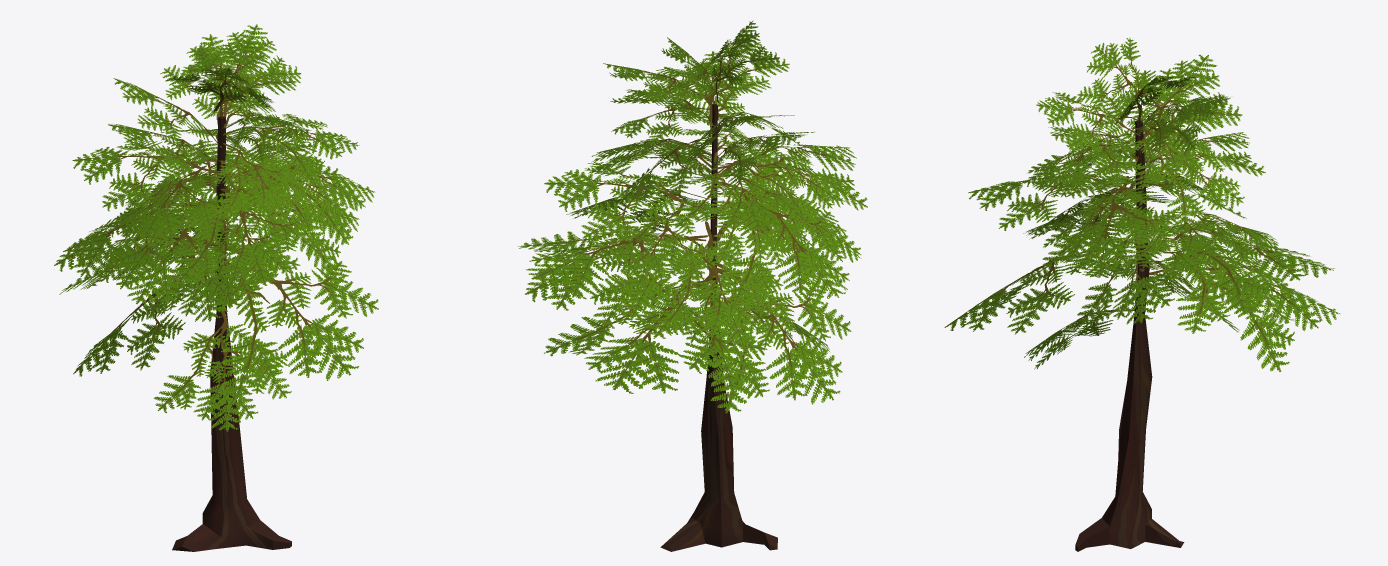
File: Tall_Tree.fbx
3 views of the same model, side by side, from view 1: azimuth 30°, elevation 25°; view 2: azimuth 150°, elevation 25°; view 3: azimuth 270°, elevation 25° (orthographic). The views are drawn at different scales.
Visible parts, largest first — view 1: Tall_Tree; view 2: Tall_Tree; view 3: Tall_Tree.
Boxes of the visible parts, <box> form: Tall_Tree: <box>54,24,378,551</box>; Tall_Tree: <box>518,20,867,551</box>; Tall_Tree: <box>944,37,1340,551</box>.
Bounding box in the file's own units: 12.83 × 17.97 × 14.43.
